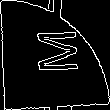M_W: (30, 31, 80, 79)
